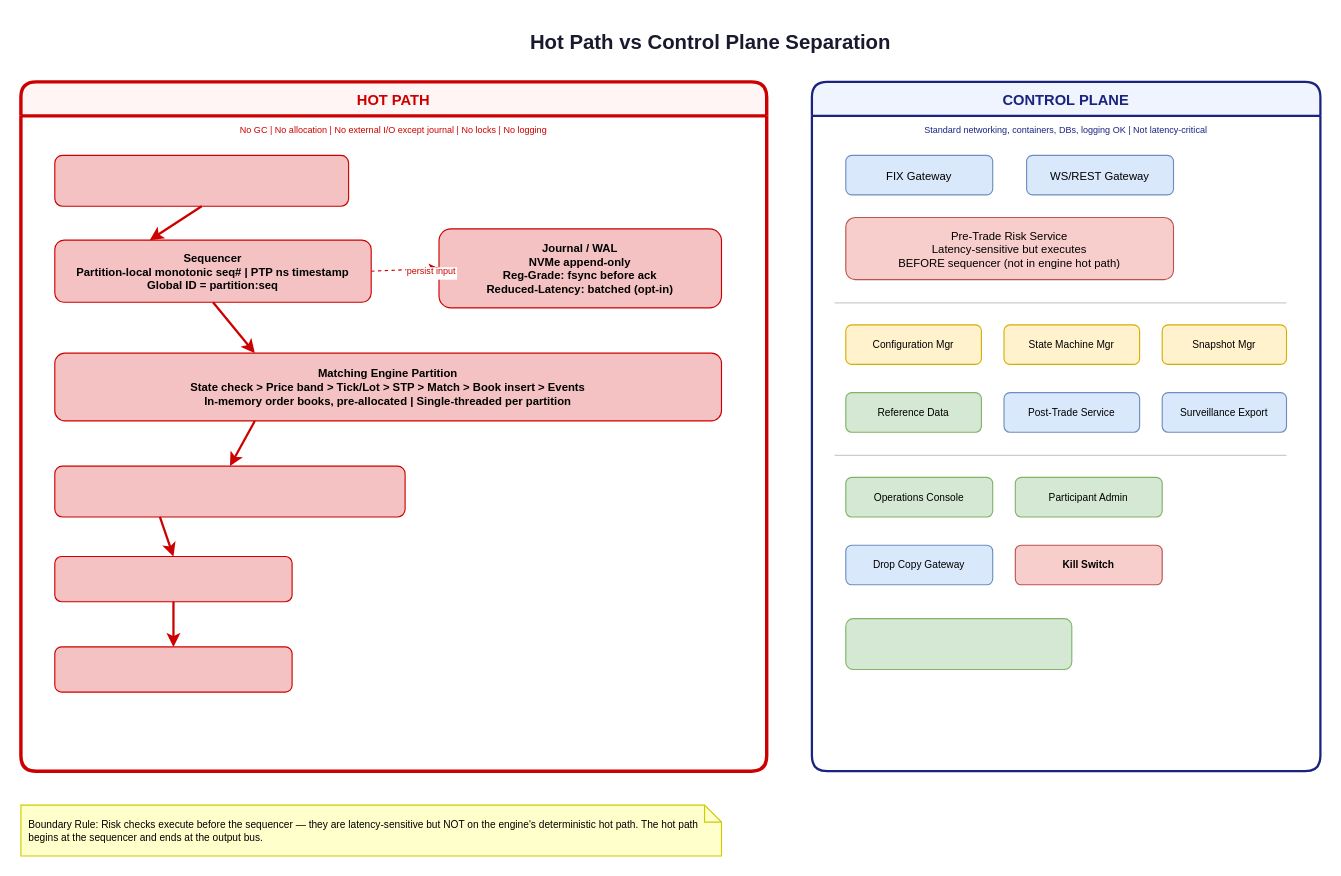
The diagram is 1341 pixels wide and 876 high, and some of its shapes have lost their labels. Each missing label, with the centre of its shape:
Binary Gateway (RX) DPDK poll-mode | NIC HW timestamp: point (201, 180)
Binary Gateway (TX) NIC HW timestamp on egress: point (173, 669)
Market Data Publisher Multicast (output only): point (173, 578)
Monitoring / Observability Prometheus, Grafana, ELK: point (958, 644)
Output Bus Lock-free ring buffer (Aeron / LMAX Disruptor): point (229, 491)
